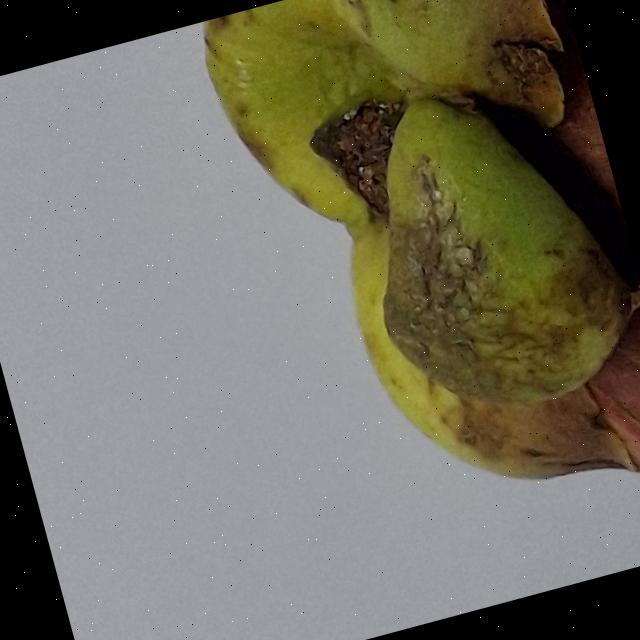mangosteen: (131, 0, 640, 640)
